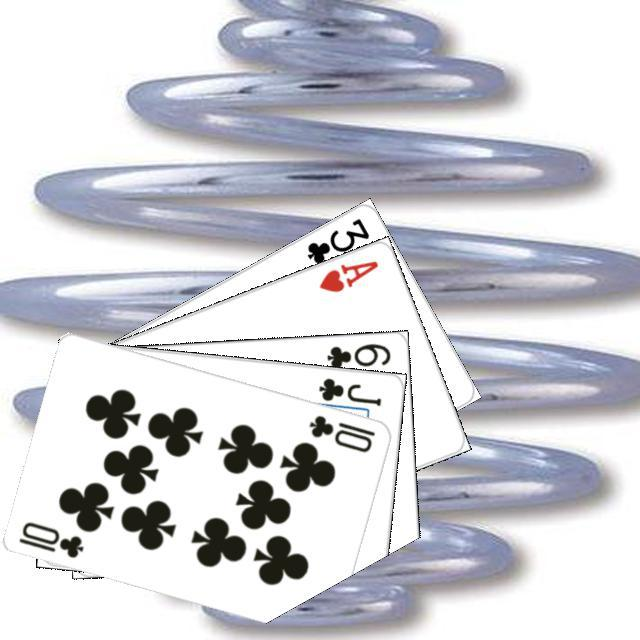10c: (304, 410, 377, 455), (14, 516, 86, 560)
3c: (301, 213, 371, 266)
6c: (321, 338, 393, 370)
Ah: (314, 255, 380, 295)
Jc: (314, 372, 383, 408)
